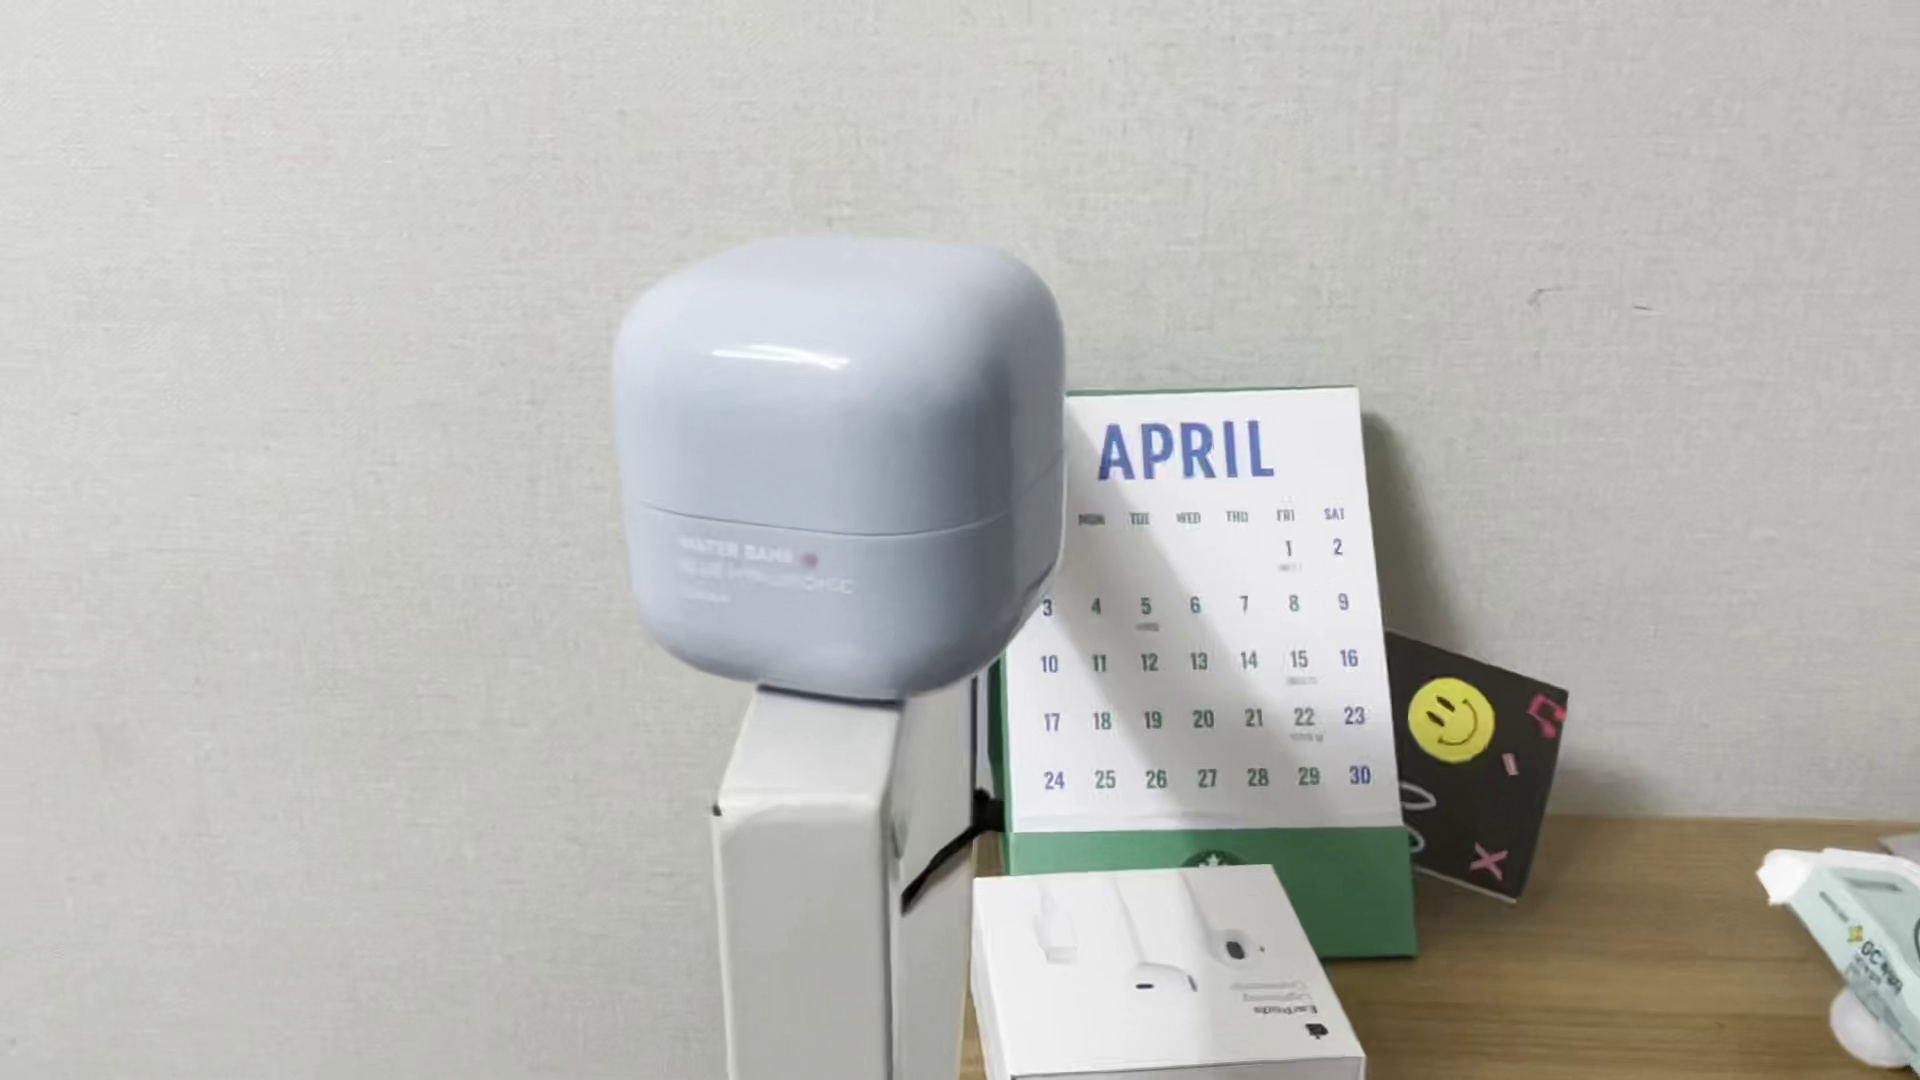cream: (615, 223, 1073, 703)
